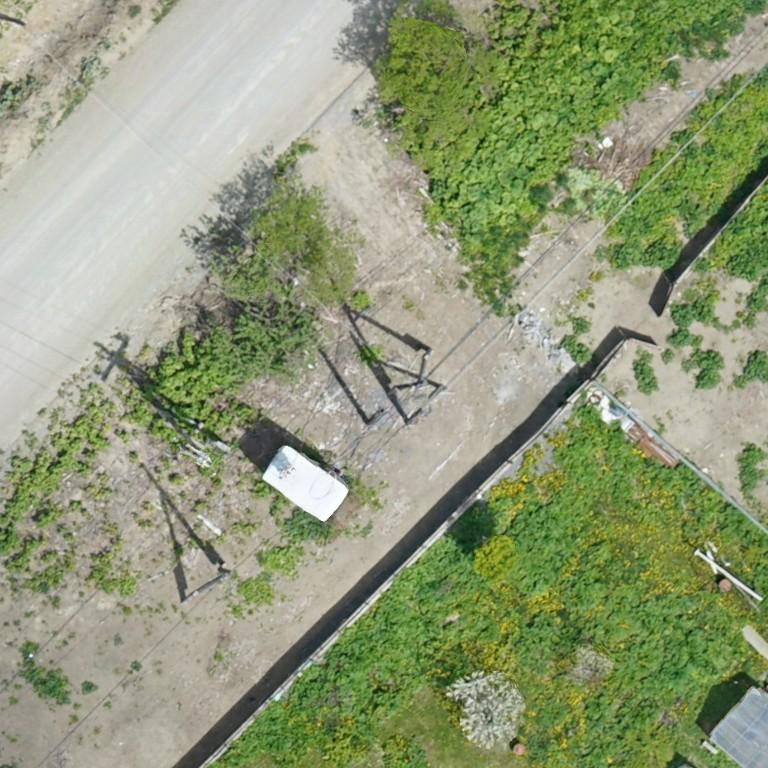hogweed: (211, 508, 491, 767), (595, 590, 743, 695), (649, 465, 767, 588), (510, 492, 587, 596), (705, 185, 767, 278), (514, 615, 567, 671), (670, 298, 712, 346), (611, 242, 681, 267), (740, 448, 766, 495), (616, 699, 658, 728), (695, 351, 724, 388), (738, 351, 767, 384), (585, 693, 611, 719), (636, 362, 657, 393), (752, 277, 767, 310)
